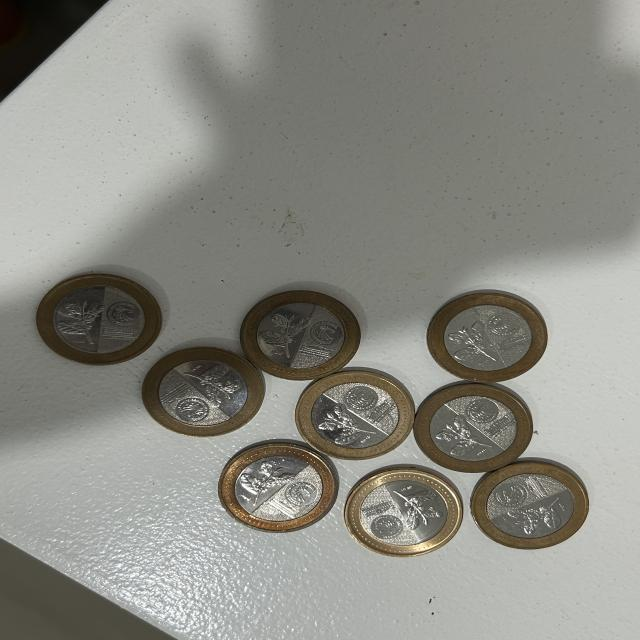20_New_Back: (434, 414, 489, 456), (188, 365, 242, 406), (258, 310, 306, 356), (62, 299, 109, 345), (389, 486, 443, 526), (319, 403, 367, 446), (448, 323, 496, 365), (509, 498, 568, 532), (243, 464, 290, 504)
